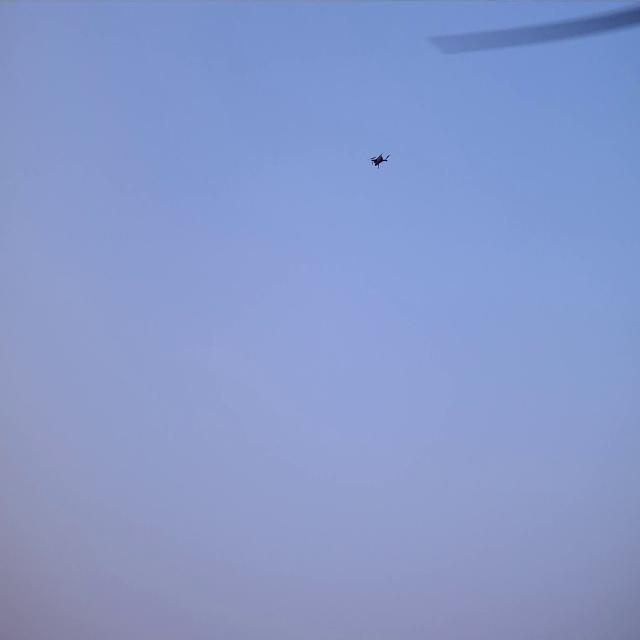UAV: (371, 154, 388, 168)
